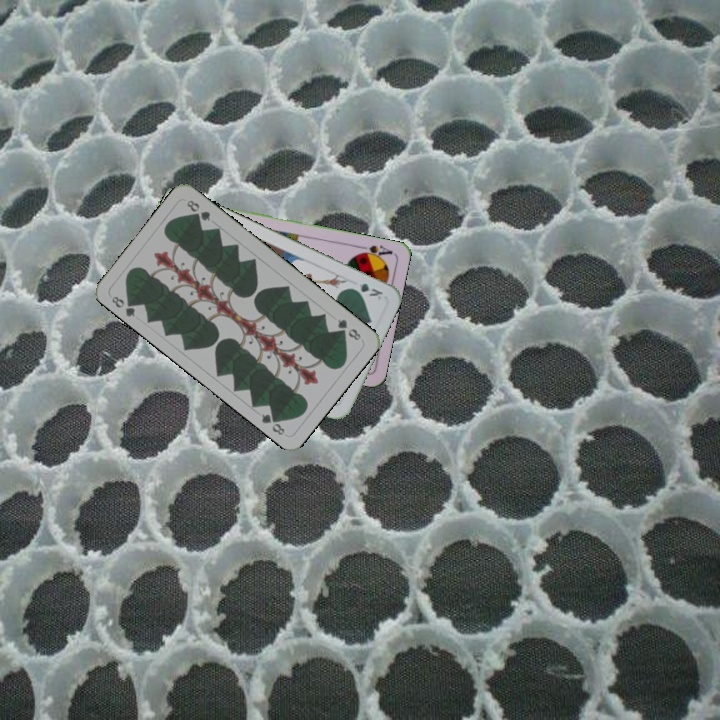G8: (107, 292, 139, 320), (333, 315, 364, 343)
GK: (346, 279, 386, 303)
SA: (353, 241, 395, 262)
